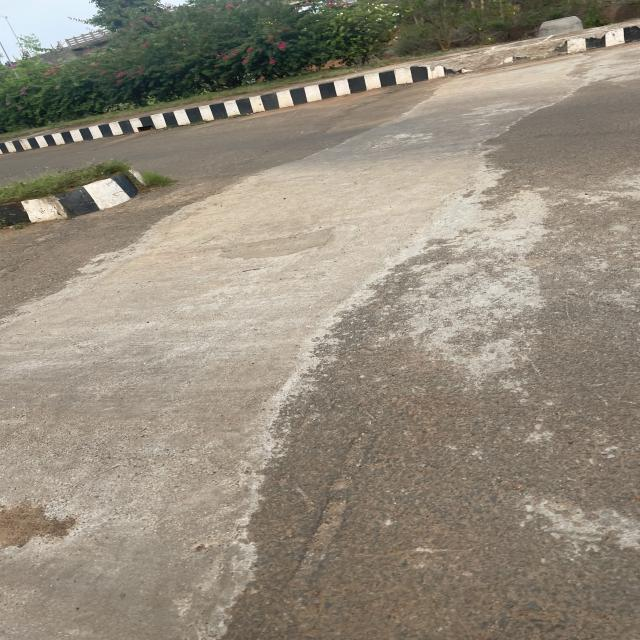D11: (214, 171, 451, 640)
